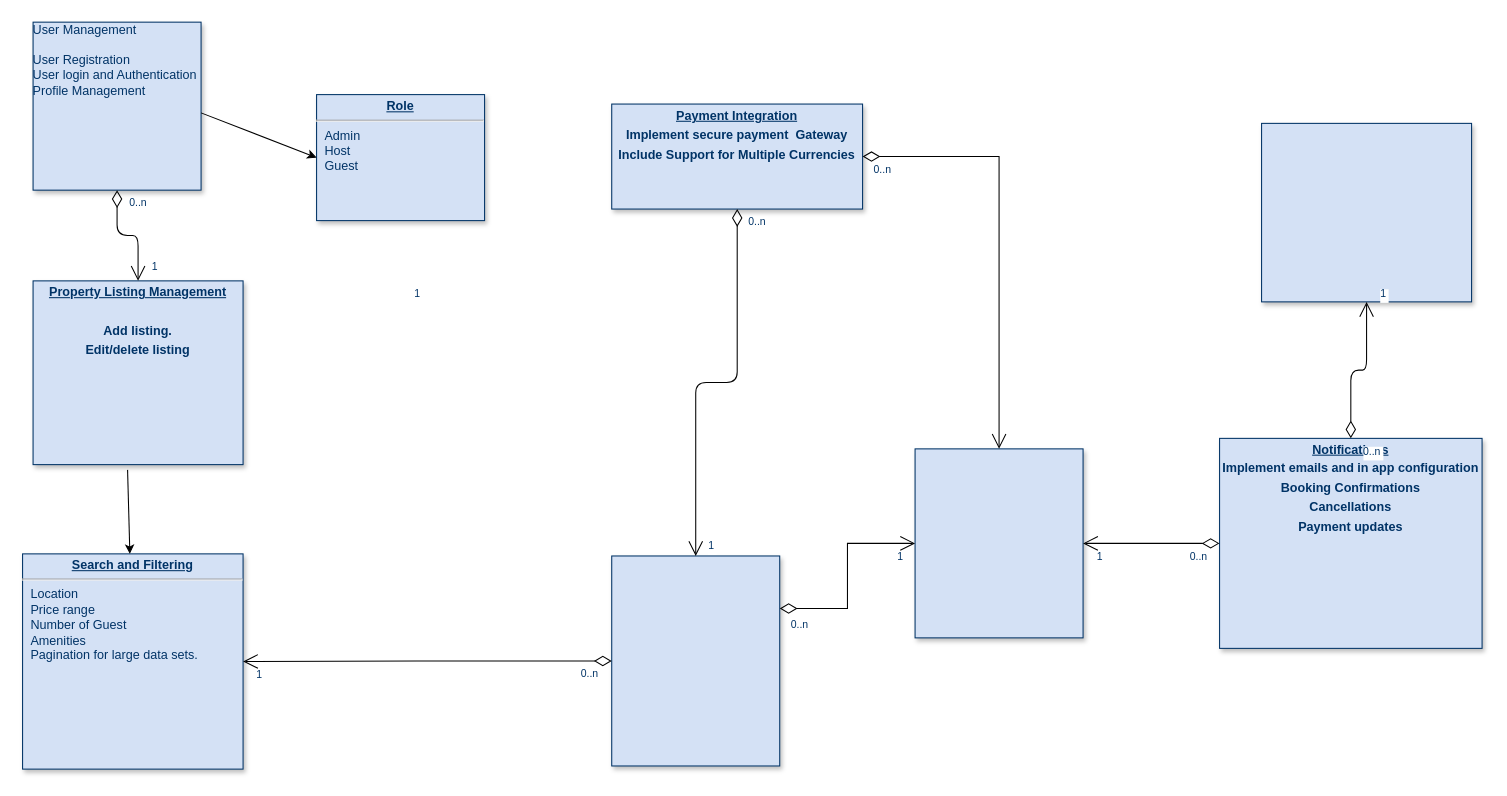
This 1507x796 diagram has some shape labels left out. Each missing label, with the centre of its shape:
Admin Dashboard for monitoring and managing: Users Listings Bookings Payments: [1367,213]
Booking Management Booking Creation Booking Cancellation Book Status: [696,662]
Reviews and Ratings Guest can leave reviews Host can reply reviews: [999,544]
